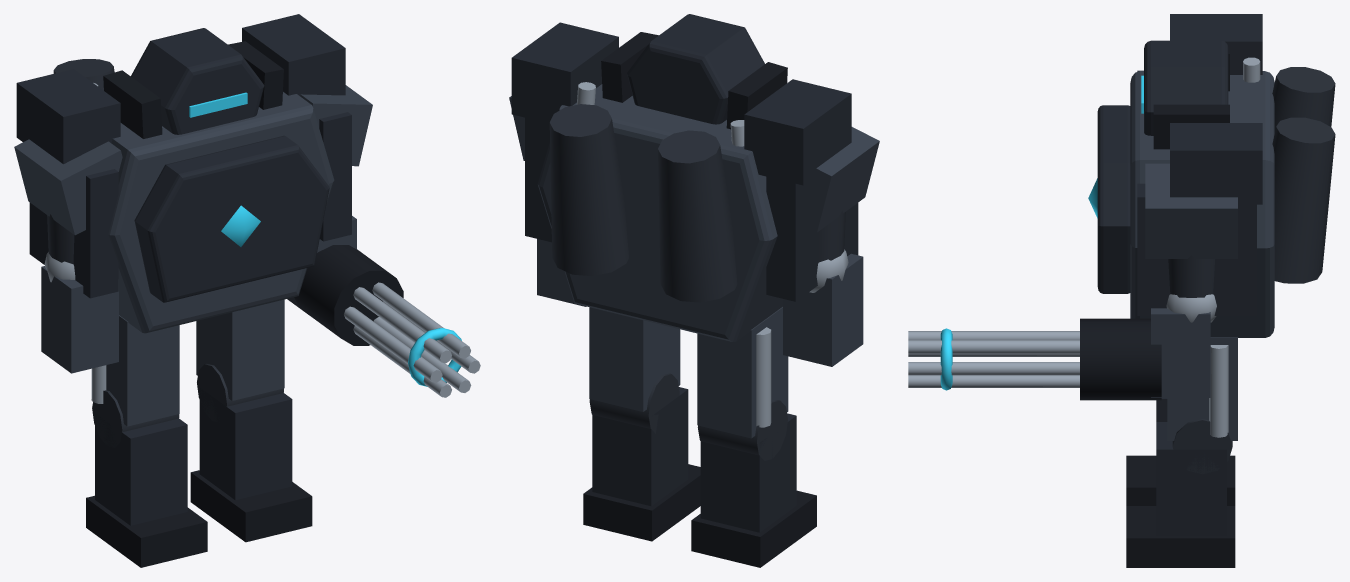
The model's file is enemy_mech.glb.
3 views of the same model, side by side, from view 1: azimuth 30°, elevation 25°; view 2: azimuth 150°, elevation 25°; view 3: azimuth 270°, elevation 25° (orthographic). The views are drawn at different scales.
Parts seen in each view (by area): view 1: TorsoPivot, ArmorFront, RightKneePivot, LeftKneePivot, GatlingPivot, HeadPivot, LeftElbowPivot, RightLegPivot, LeftLegPivot, LeftArmPivot, ArmorLeft, ArmorRight (+2 smaller); view 2: TorsoPivot, LeftKneePivot, RightKneePivot, HeadPivot, LeftLegPivot, RightLegPivot, LeftElbowPivot, ArmorLeft, LeftArmPivot, ArmorRight, RightElbowPivot; view 3: TorsoPivot, GatlingPivot, RightKneePivot, RightArmPivot, ArmorFront, HeadPivot, ArmorRight, RightElbowPivot, RightLegPivot, LeftKneePivot.
Part boxes in pixels (x1=…): TorsoPivot: x1=16, y1=14, x2=345, y2=333; ArmorFront: x1=134, y1=135, x2=329, y2=302; RightKneePivot: x1=190, y1=363, x2=312, y2=542; LeftKneePivot: x1=86, y1=390, x2=207, y2=567; GatlingPivot: x1=294, y1=245, x2=480, y2=397; HeadPivot: x1=130, y1=28, x2=264, y2=134; LeftElbowPivot: x1=41, y1=252, x2=118, y2=373; RightLegPivot: x1=196, y1=299, x2=284, y2=400; LeftLegPivot: x1=91, y1=315, x2=179, y2=426; LeftArmPivot: x1=14, y1=139, x2=122, y2=264; ArmorLeft: x1=29, y1=169, x2=118, y2=298; ArmorRight: x1=319, y1=112, x2=351, y2=241; TorsoPivot: x1=511, y1=22, x2=851, y2=341; LeftKneePivot: x1=691, y1=400, x2=816, y2=567; RightKneePivot: x1=583, y1=373, x2=700, y2=541; HeadPivot: x1=627, y1=14, x2=764, y2=124; LeftLegPivot: x1=697, y1=307, x2=788, y2=438; RightLegPivot: x1=589, y1=307, x2=680, y2=411; LeftElbowPivot: x1=783, y1=249, x2=863, y2=366; ArmorLeft: x1=766, y1=176, x2=858, y2=301; LeftArmPivot: x1=805, y1=127, x2=879, y2=262; ArmorRight: x1=525, y1=117, x2=551, y2=242; RightElbowPivot: x1=537, y1=239, x2=586, y2=306; TorsoPivot: x1=1130, y1=14, x2=1335, y2=337; GatlingPivot: x1=908, y1=318, x2=1161, y2=400; RightKneePivot: x1=1126, y1=419, x2=1235, y2=567; RightArmPivot: x1=1145, y1=163, x2=1237, y2=297; ArmorFront: x1=1097, y1=105, x2=1130, y2=293; HeadPivot: x1=1141, y1=40, x2=1228, y2=135; ArmorRight: x1=1137, y1=183, x2=1256, y2=315; RightElbowPivot: x1=1151, y1=294, x2=1216, y2=397; RightLegPivot: x1=1167, y1=337, x2=1237, y2=440; LeftKneePivot: x1=1126, y1=398, x2=1235, y2=505.
Bounding box in the file's own units: 1.31 × 1.92 × 1.57.
